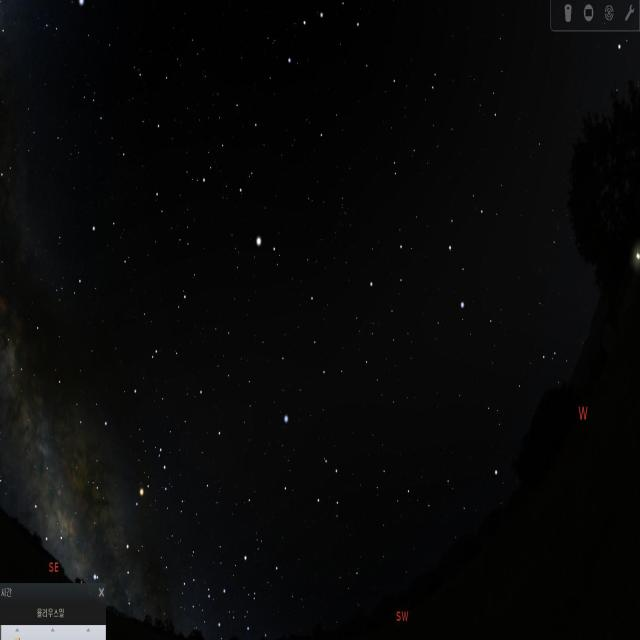bootes: (212, 85, 278, 254)
leo: (361, 181, 494, 316)
scorpius: (118, 438, 182, 601)
